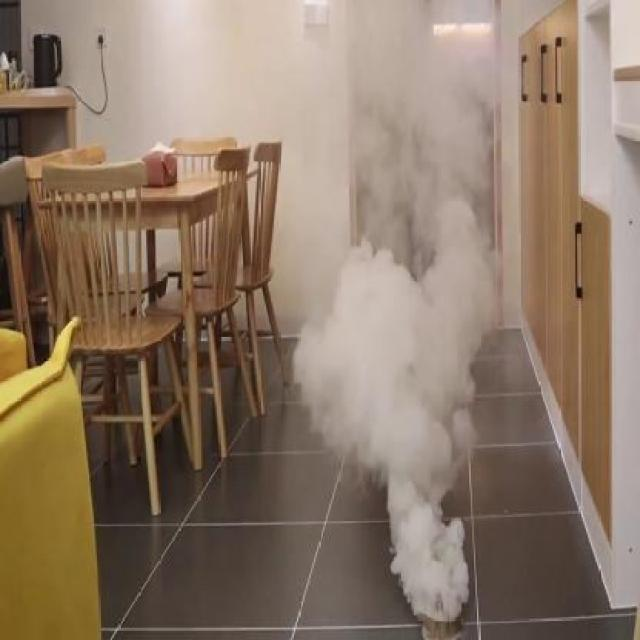smoke: (288, 3, 508, 617)
